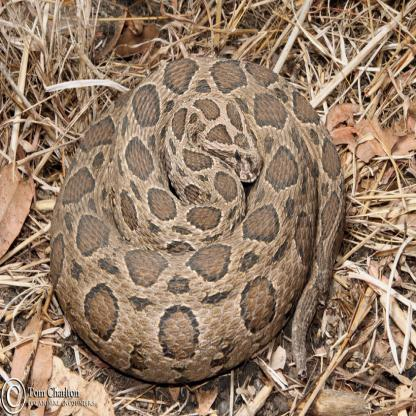Snake: (48, 52, 346, 385)
